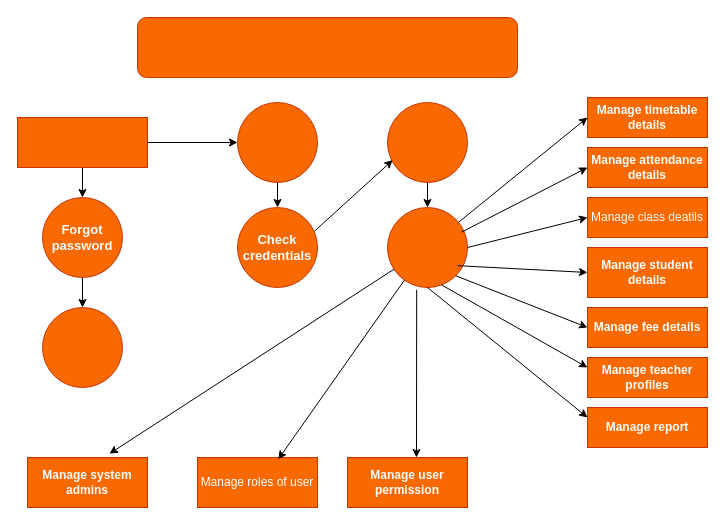
This 725x525 diagram has some shape labels left out. Here are the shapes that lost their labels. From the top down, the centre of each, then its label:
At point (327, 47): "Student Information System".
At point (82, 142): "Admin".
At point (277, 142): "Login to system".
At point (427, 142): "Check roles of access".
At point (427, 247): "Manage modules".
At point (82, 347): "Send email to user".
